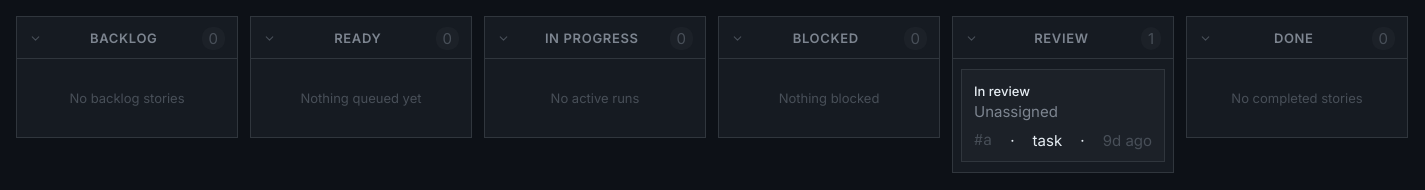
Scenario: KanbanView column collapse › expands again
Step 1. Click the button named "collapse review column" → (972, 38), box [965, 32, 978, 45]
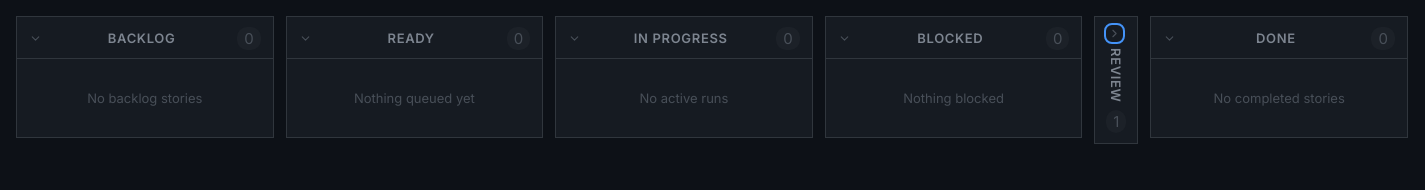
Step 2. Click the button named "expand review column" → (1114, 34), box [1108, 27, 1121, 40]
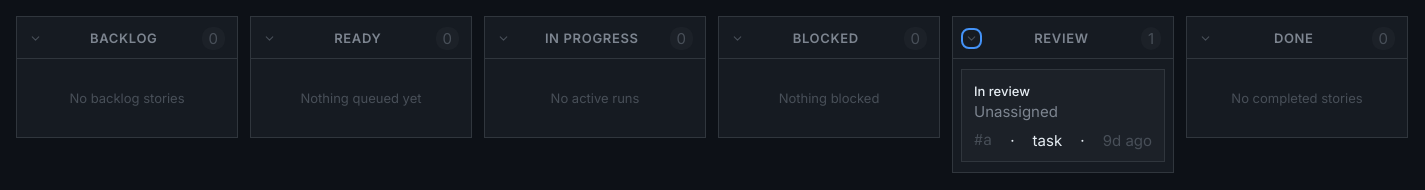
expect the text "In review" is shown: met, box [974, 83, 1030, 99]
